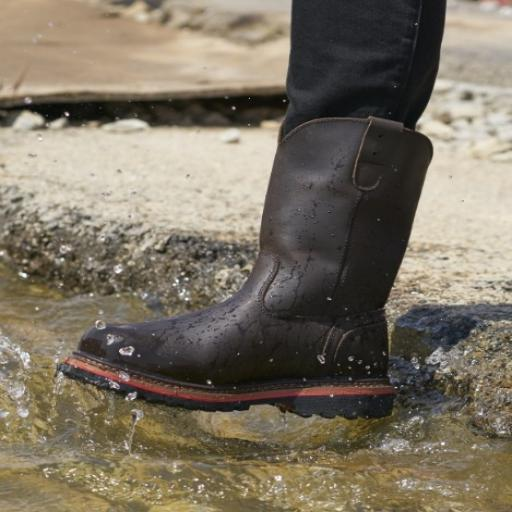safety_boots: (54, 115, 442, 424)
